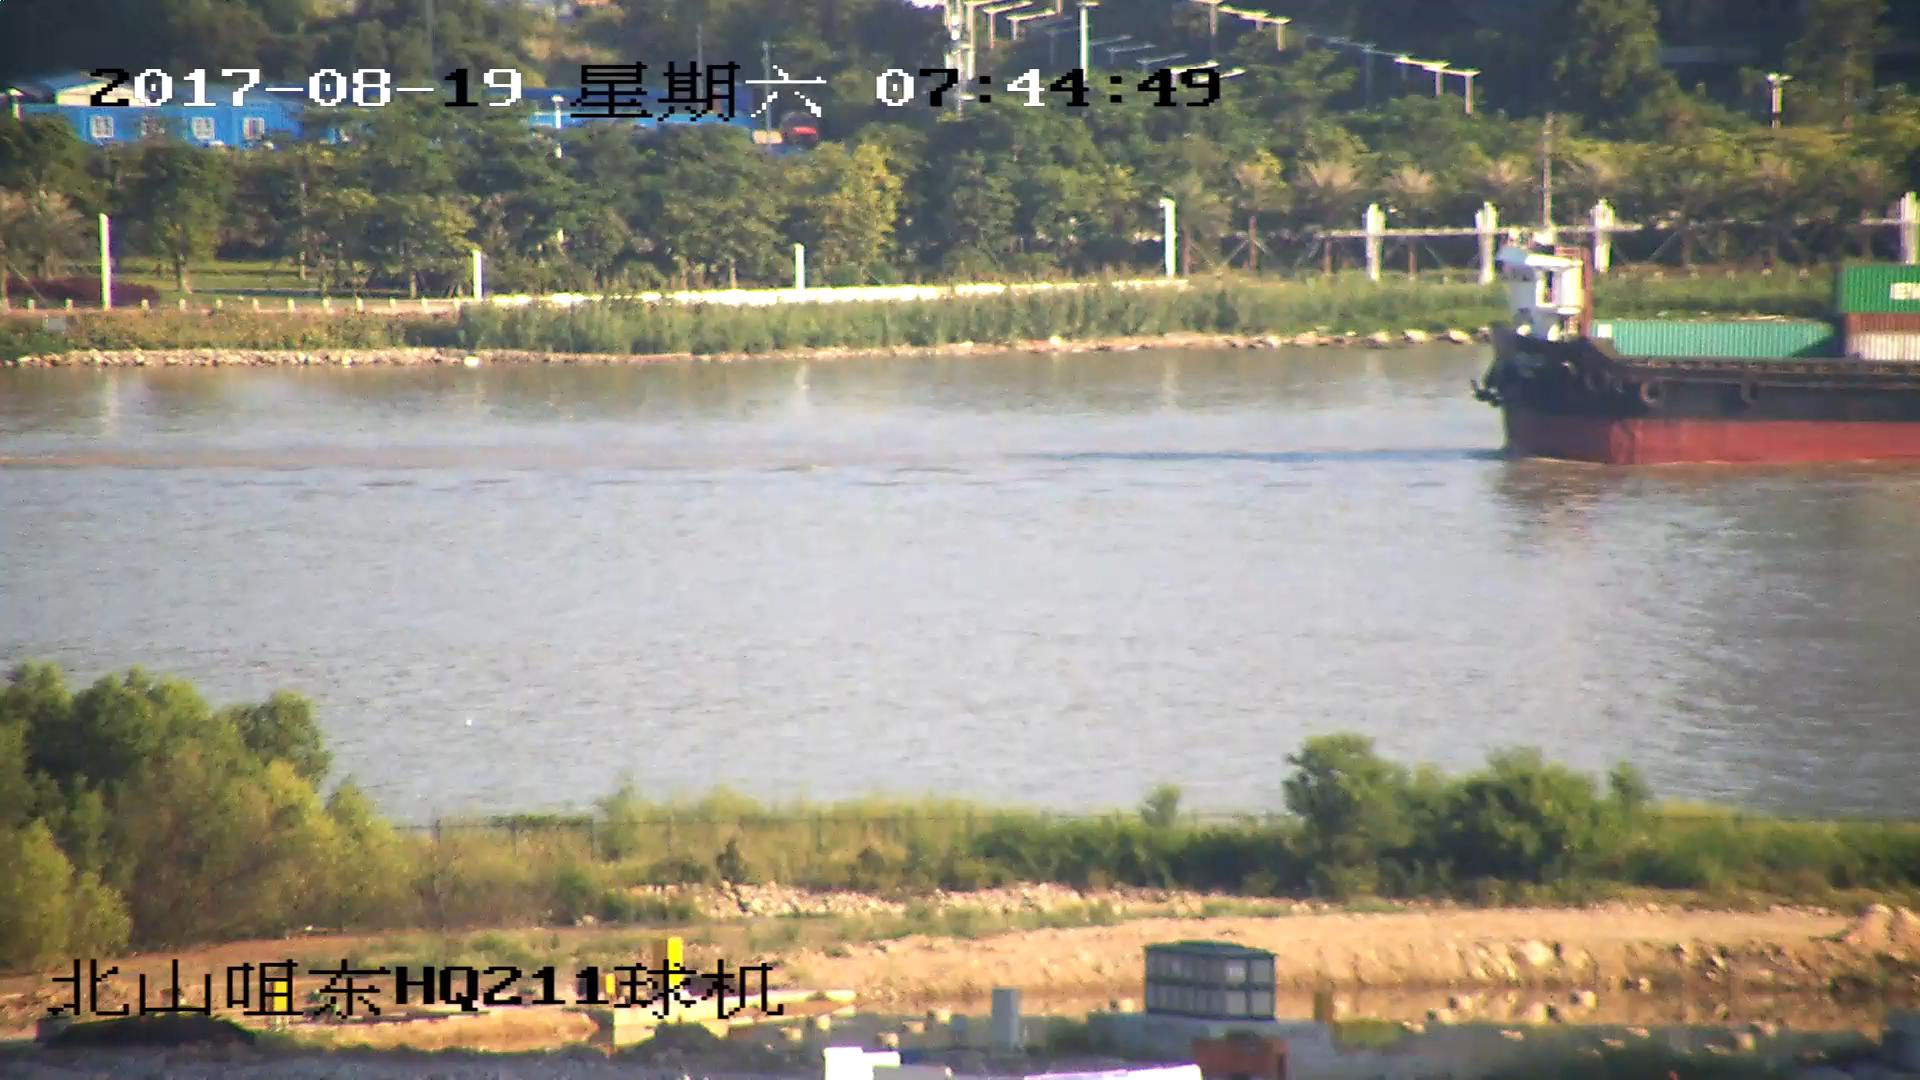container ship: (1473, 229, 1920, 473)
